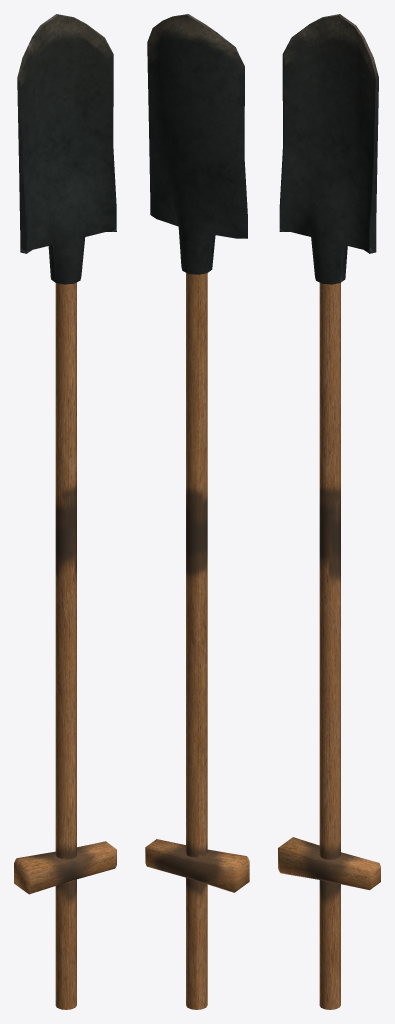
Rendered from FarmEquip_Shovel.fbx.
3 renders of one model, left to right at view 1: azimuth 30°, elevation 25°; view 2: azimuth 150°, elevation 25°; view 3: azimuth 330°, elevation 25°, orthographic.
Parts seen in each view (by area): view 1: FarmEquip_Shovel; view 2: FarmEquip_Shovel; view 3: FarmEquip_Shovel.
Part boxes in pixels (<box>): FarmEquip_Shovel: <box>14,14,116,1009</box>; FarmEquip_Shovel: <box>145,14,249,1009</box>; FarmEquip_Shovel: <box>278,14,380,1009</box>.
Size of the model in its own units: 0.1455 by 1.42 by 0.0564.
